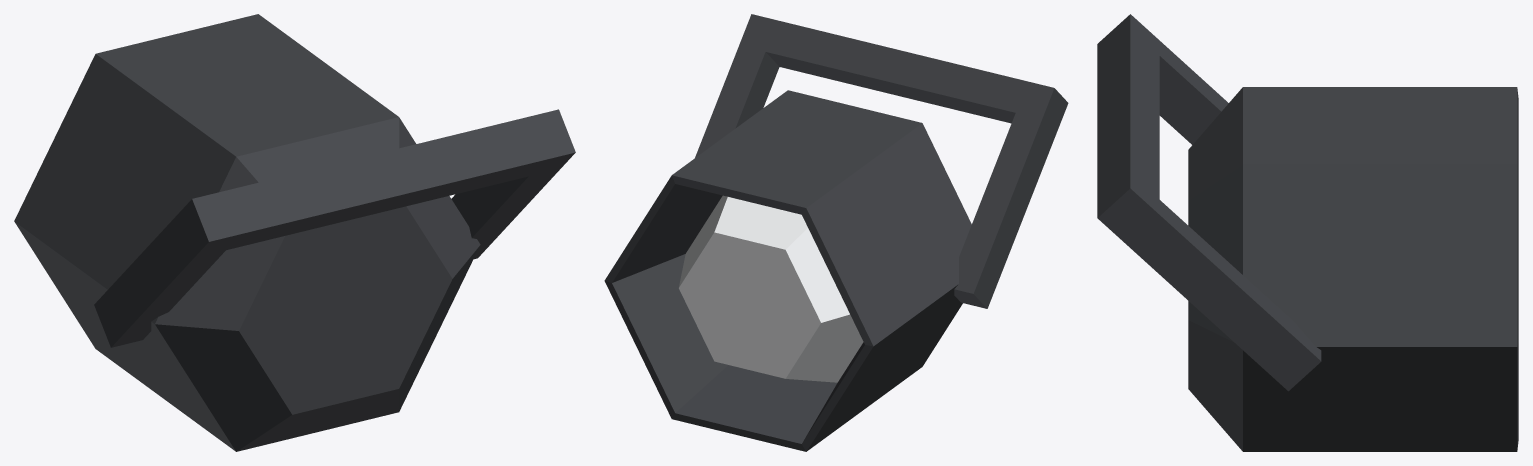
File: Lamp 3.fbx
The picture shows the model from 3 angles, left to right: view 1: azimuth 30°, elevation 25°; view 2: azimuth 150°, elevation 25°; view 3: azimuth 270°, elevation 25°; orthographic projection. The views are drawn at different scales.
Parts seen in each view (by area): view 1: lamp 3; view 2: lamp 3; view 3: lamp 3.
Part boxes in pixels (box(x1,y1,x2,y2)): lamp 3: box(14, 14, 575, 451); lamp 3: box(604, 14, 1068, 451); lamp 3: box(1097, 14, 1518, 451).
Bounding box in the file's own units: 34.39 × 28.68 × 35.08.
